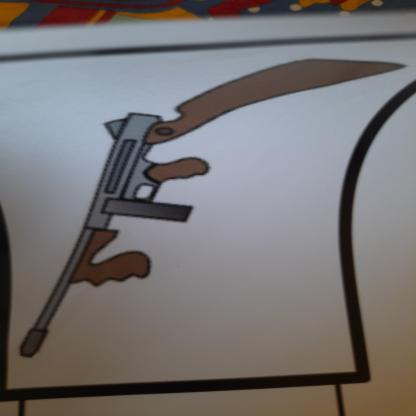Bootlegger: (15, 45, 416, 374)
